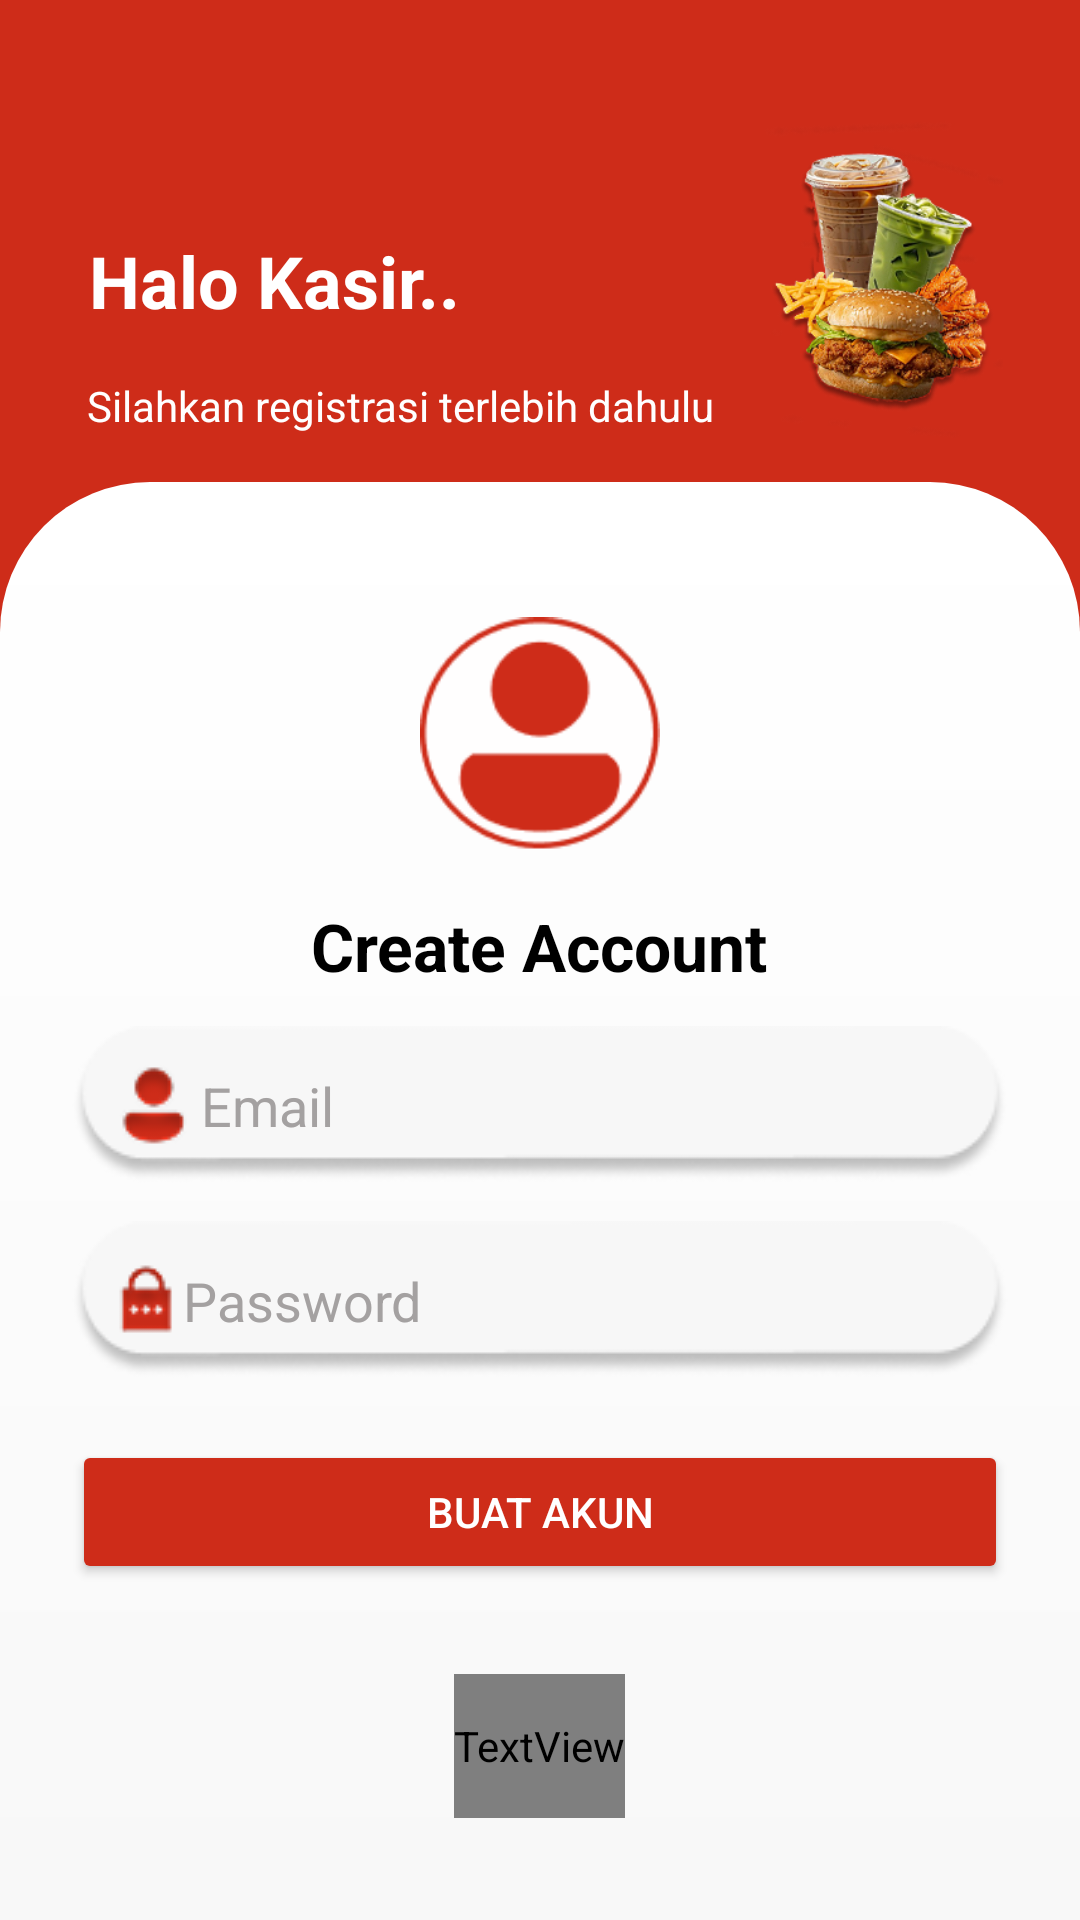

Screen size 1080 x 1920. Icon name, then its box in pixels as detection(x1, y1, x2, y2):
User Icon: detection(420, 617, 660, 849)
